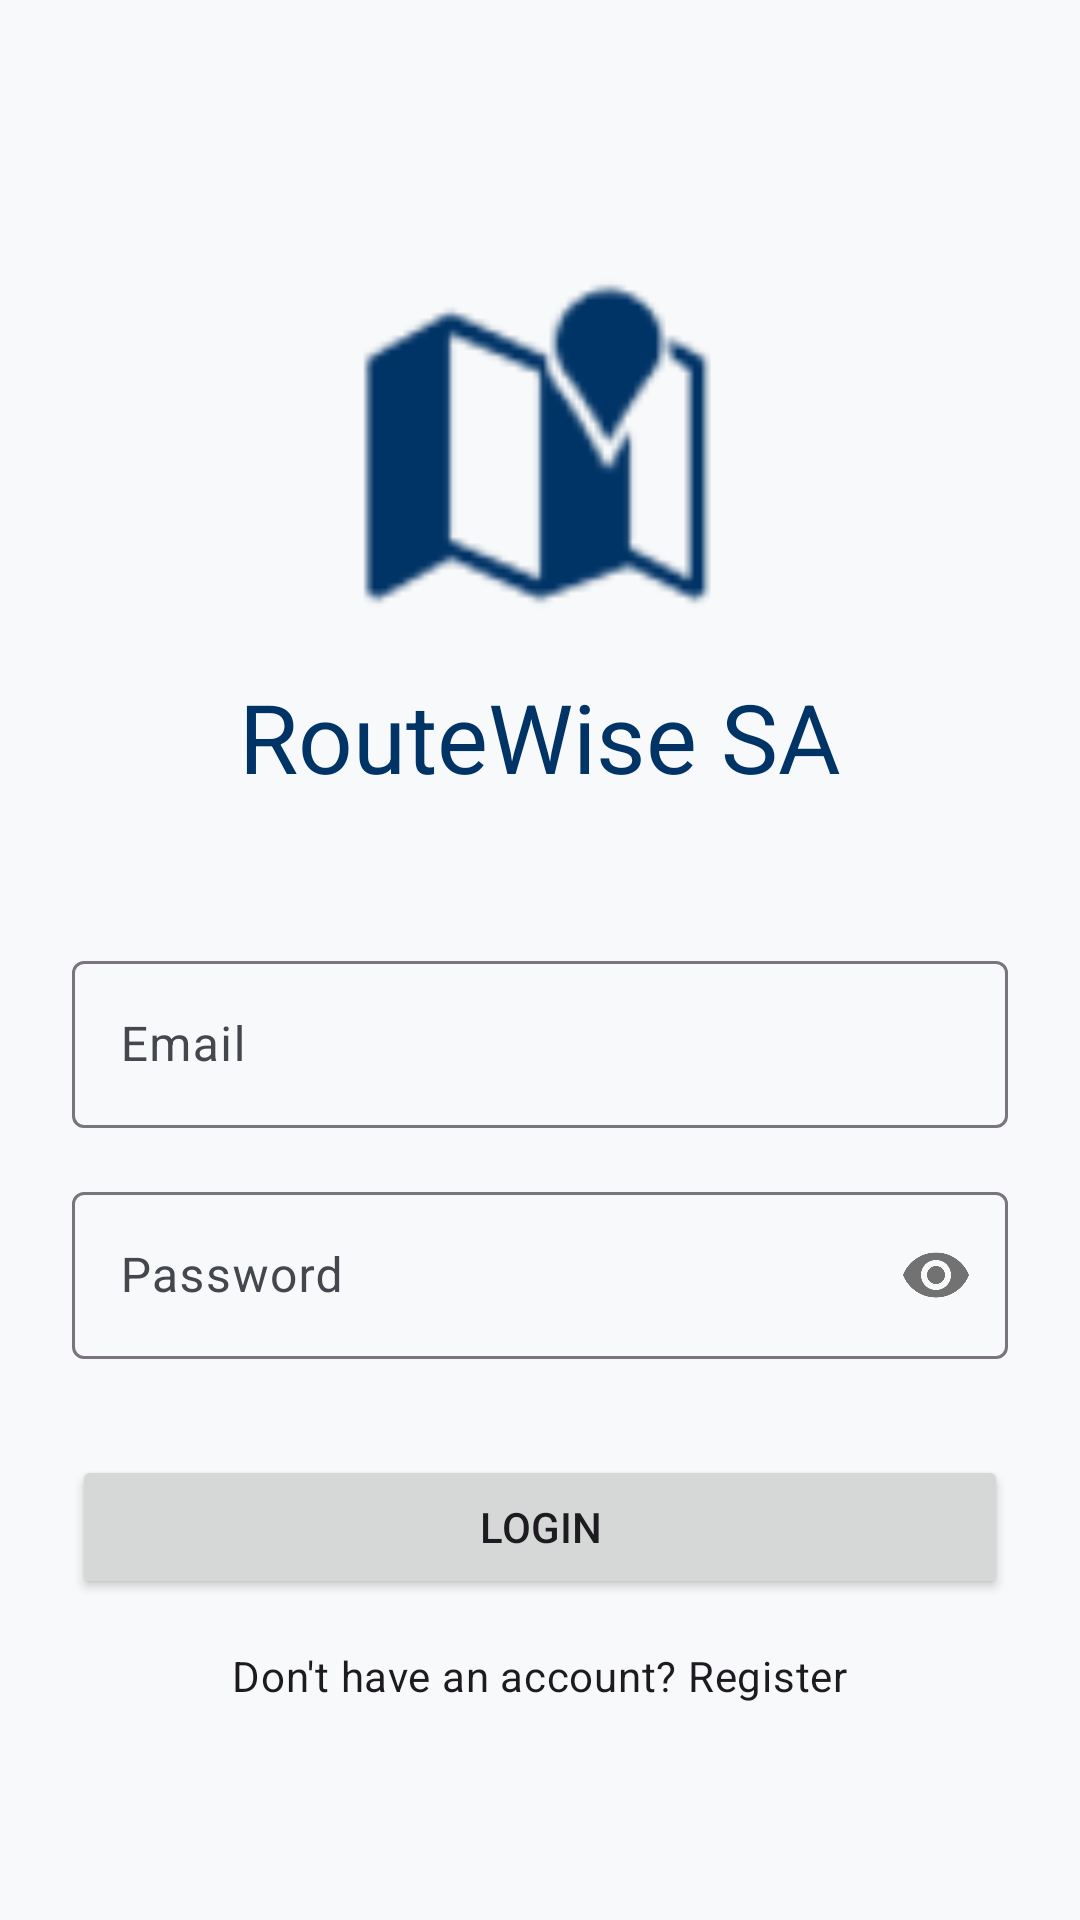

Point at icon controls on the screen. Image size 1080×1920, points as [x,y].
map: [537,444]
